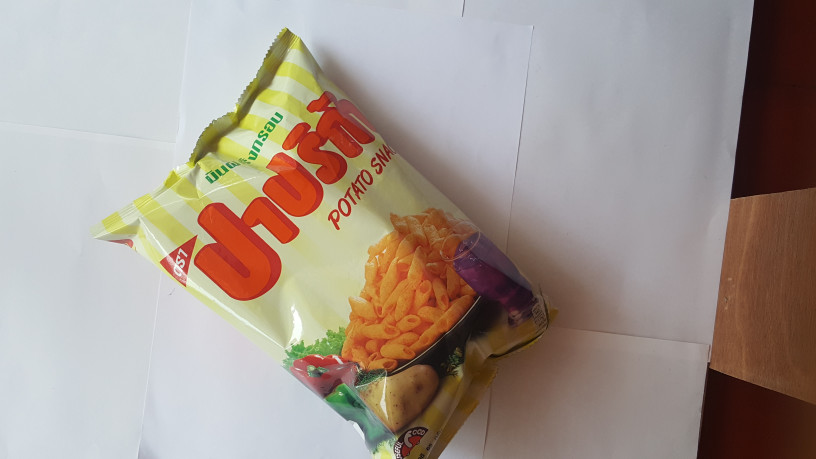paprika: (84, 10, 569, 459)
